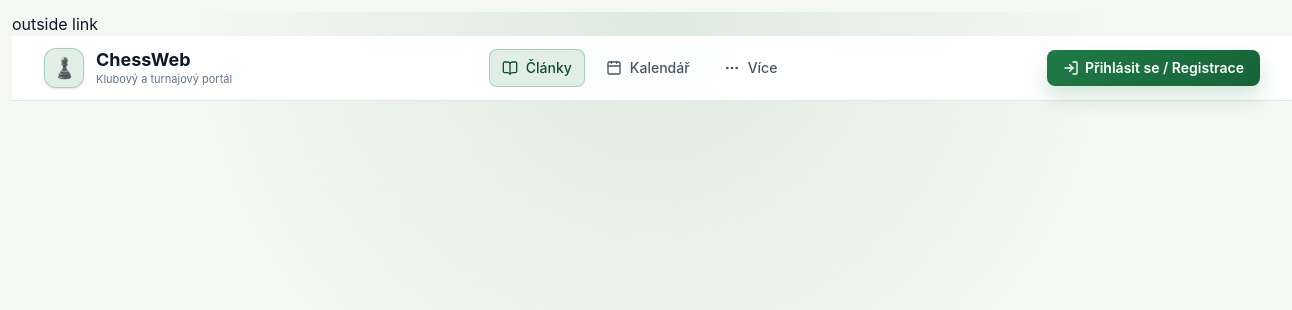
Scenario: Navbar Component › More menu › closes on Escape and returns focus to the toggle that opened it
The width and height of the screenshot is (1292, 310).
Step 1. Click the button "Více" → {"x": 750, "y": 68}, box [711,49,790,87]
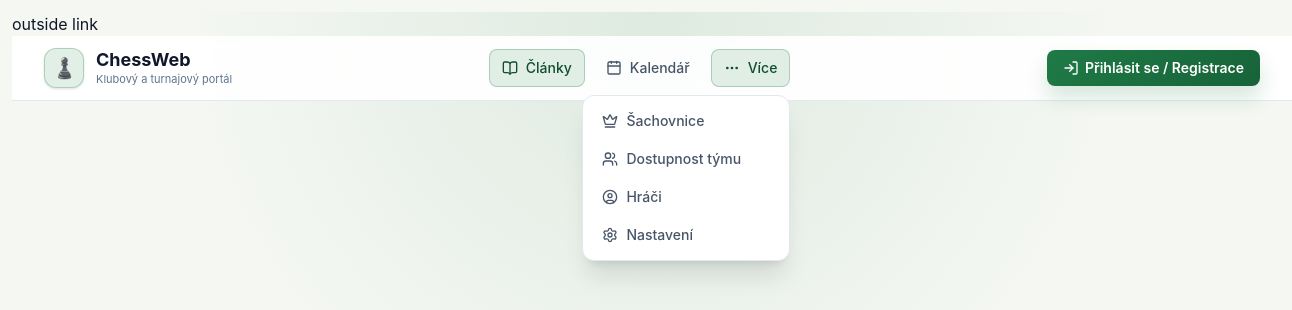
Step 2. Press Escape
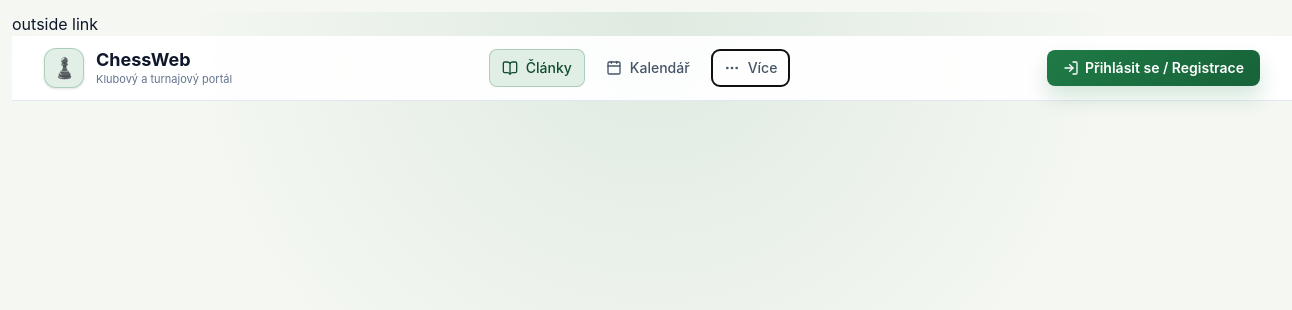
Expected: the button "Více" is collapsed, [711,49,790,87]
